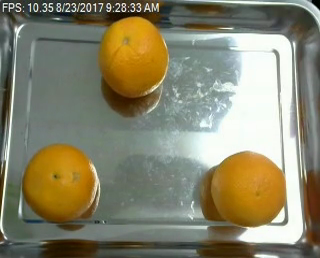Orange: (210, 149, 287, 228), (22, 144, 97, 221), (99, 15, 169, 96)
